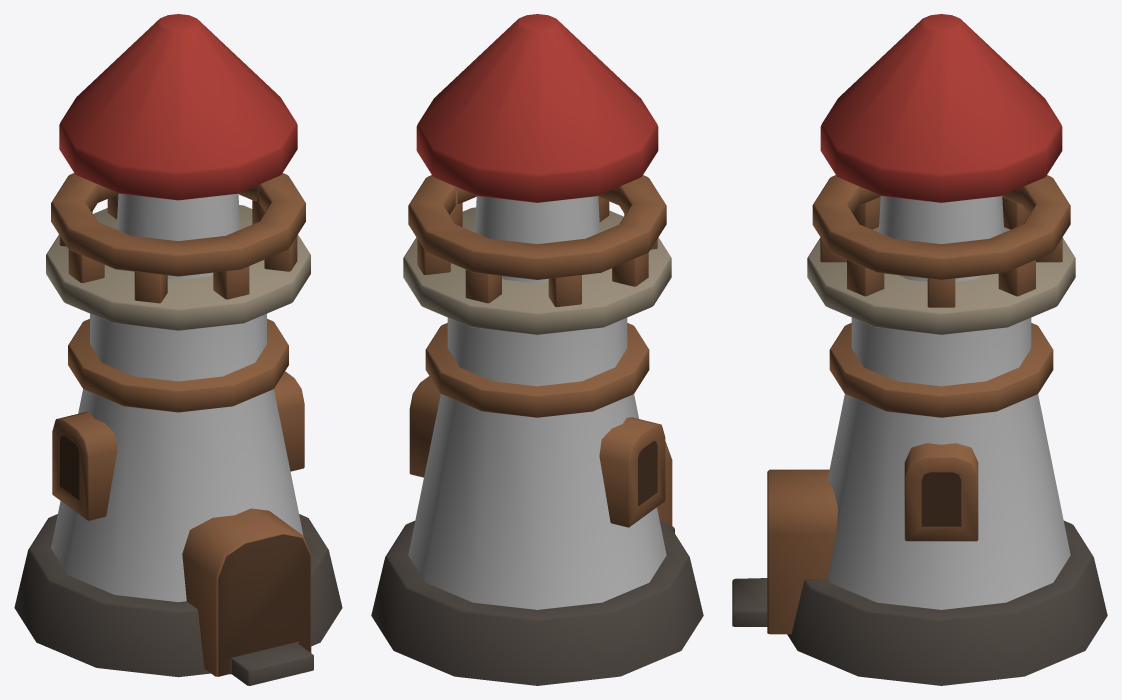
Rendered from Lighthouse.fbx.
3 renders of one model, left to right at view 1: azimuth 30°, elevation 25°; view 2: azimuth 150°, elevation 25°; view 3: azimuth 270°, elevation 25°, orthographic.
Visible parts, largest first — view 1: Cylinder.236, Cube.1129, Cylinder.239, Cylinder.238, Cylinder.237, Cube.1130, Cube.1121, Cube.1125, Cube.1123, Cube.1128; view 2: Cylinder.236, Cylinder.239, Cylinder.238, Cylinder.237, Cube.1130, Cube.1122, Cube.1127, Cube.1123, Cube.1129, Cube.1126; view 3: Cylinder.236, Cylinder.239, Cylinder.238, Cube.1129, Cylinder.237, Cube.1130, Cube.1128, Cube.1126, Cube.1124, Cube.1125, Cube.1127.
Boxes of the visible parts, x1=… form: Cylinder.236: x1=14, y1=14, x2=342, y2=677; Cube.1129: x1=182, y1=508, x2=313, y2=685; Cylinder.239: x1=51, y1=173, x2=305, y2=276; Cylinder.238: x1=46, y1=205, x2=310, y2=330; Cylinder.237: x1=68, y1=319, x2=288, y2=412; Cube.1130: x1=52, y1=371, x2=304, y2=520; Cube.1121: x1=213, y1=266, x2=249, y2=299; Cube.1125: x1=134, y1=271, x2=167, y2=303; Cube.1123: x1=68, y1=249, x2=104, y2=282; Cube.1128: x1=264, y1=236, x2=297, y2=271; Cylinder.236: x1=371, y1=14, x2=703, y2=685; Cylinder.239: x1=408, y1=175, x2=666, y2=279; Cylinder.238: x1=403, y1=207, x2=671, y2=334; Cylinder.237: x1=425, y1=323, x2=649, y2=417; Cube.1130: x1=409, y1=376, x2=665, y2=527; Cube.1122: x1=465, y1=269, x2=501, y2=303; Cube.1127: x1=548, y1=275, x2=581, y2=306; Cube.1123: x1=612, y1=252, x2=648, y2=286; Cube.1129: x1=657, y1=441, x2=674, y2=532; Cube.1126: x1=417, y1=239, x2=450, y2=274; Cylinder.236: x1=787, y1=14, x2=1107, y2=685; Cylinder.239: x1=812, y1=175, x2=1070, y2=279; Cylinder.238: x1=807, y1=227, x2=1075, y2=334; Cube.1129: x1=732, y1=469, x2=837, y2=634; Cylinder.237: x1=829, y1=323, x2=1053, y2=417; Cube.1130: x1=904, y1=443, x2=978, y2=541; Cube.1128: x1=847, y1=260, x2=884, y2=296; Cube.1126: x1=998, y1=260, x2=1035, y2=296; Cube.1124: x1=927, y1=278, x2=955, y2=307; Cube.1125: x1=854, y1=197, x2=880, y2=229; Cube.1127: x1=1002, y1=197, x2=1028, y2=229.
Size of the model in its own units: 83.95 by 165 by 94.82.
